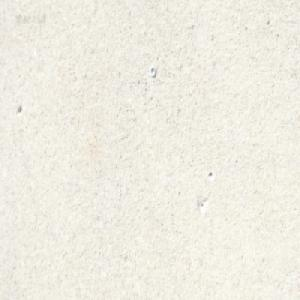Washer: (149, 65, 156, 77)
